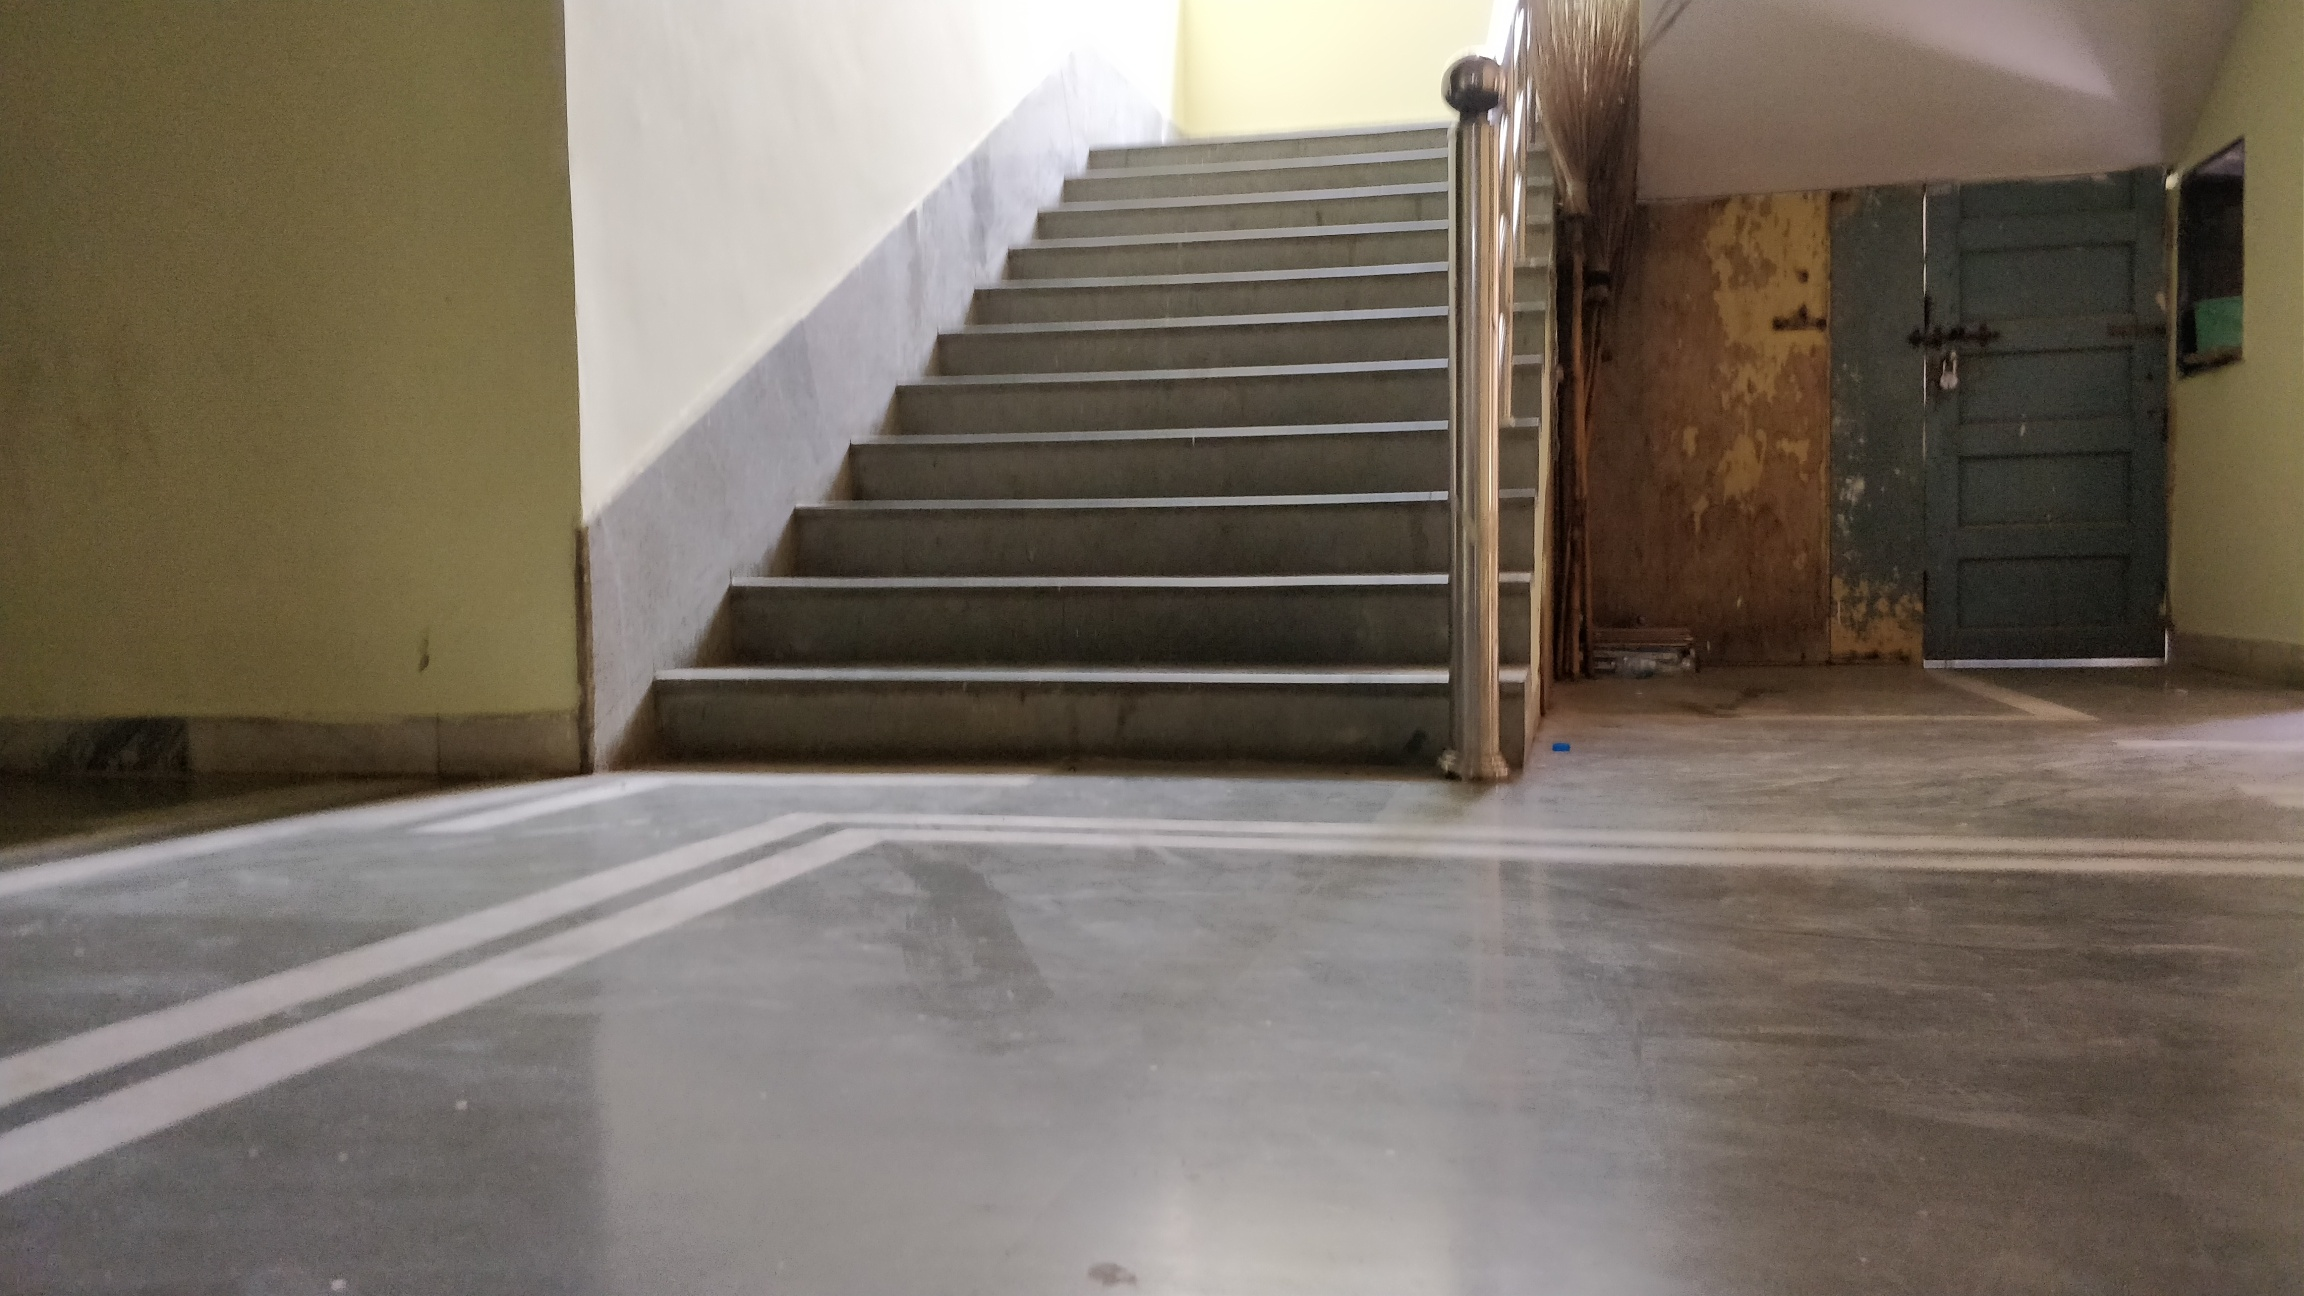stairs_up: (668, 78, 1533, 780)
